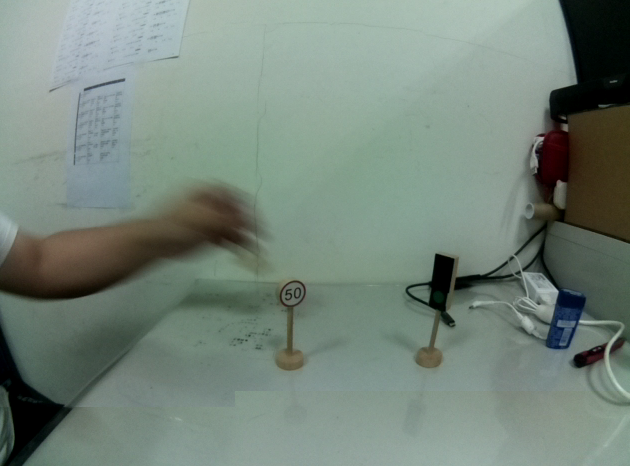Green: (421, 252, 462, 317)
Speed50: (276, 275, 308, 308)
